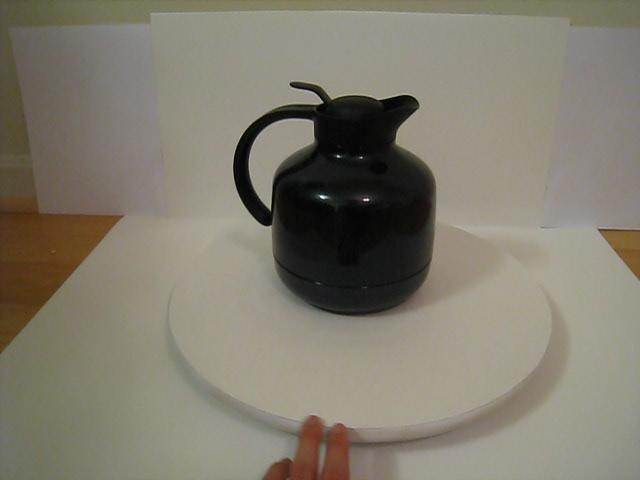pitcher: (230, 71, 450, 325)
